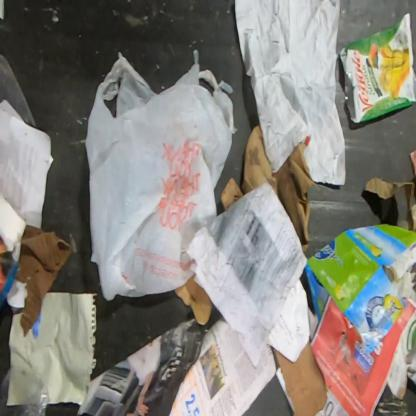cardboard: (304, 224, 415, 355), (221, 123, 314, 252), (14, 224, 72, 338), (274, 339, 326, 416), (364, 176, 415, 233)
rigid_plastic: (0, 364, 52, 416), (0, 55, 37, 128)
soft_plastic: (85, 50, 238, 301), (339, 12, 416, 125)
